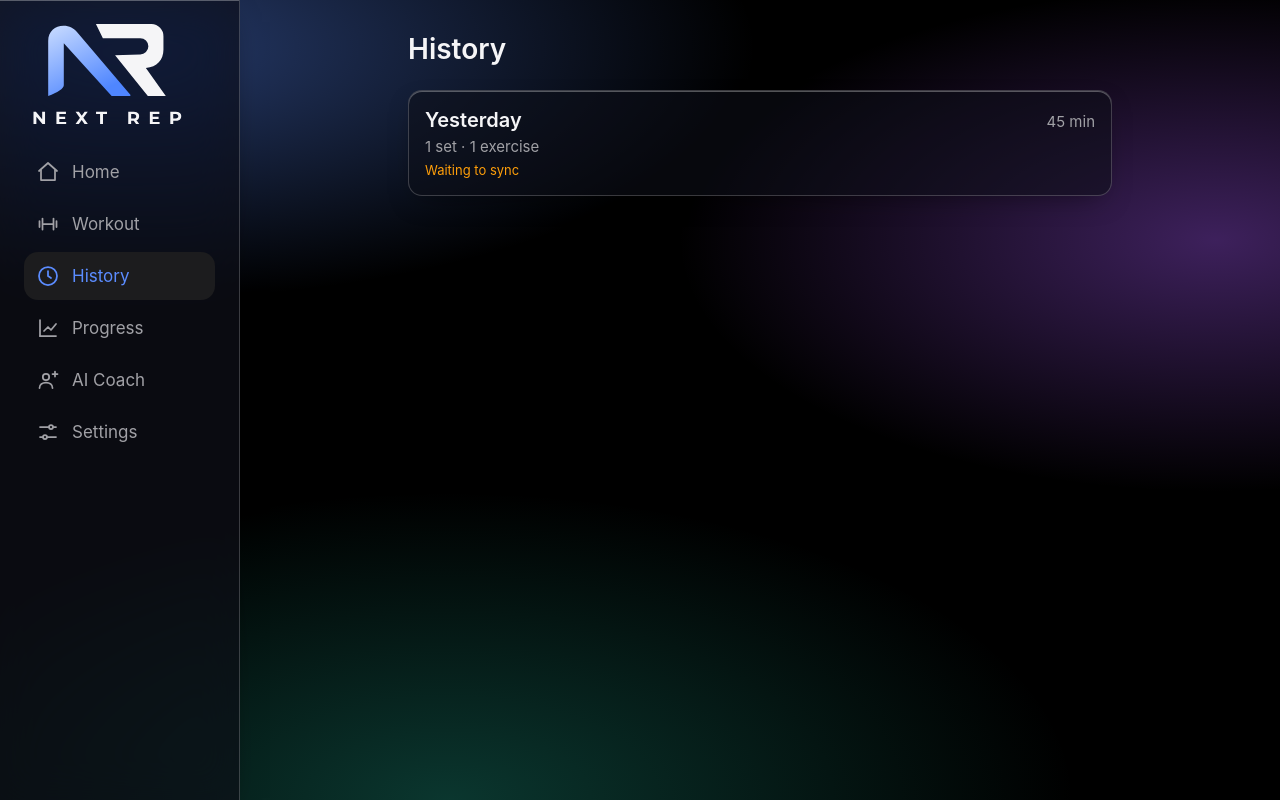
Test: a past workout › never shows a known exercise as a custom one while the names load
Click the link "Yesterday 45 min 1 set · 1 exercise Waiting to sync".
click(473, 120)  # box [408,90,1112,196]
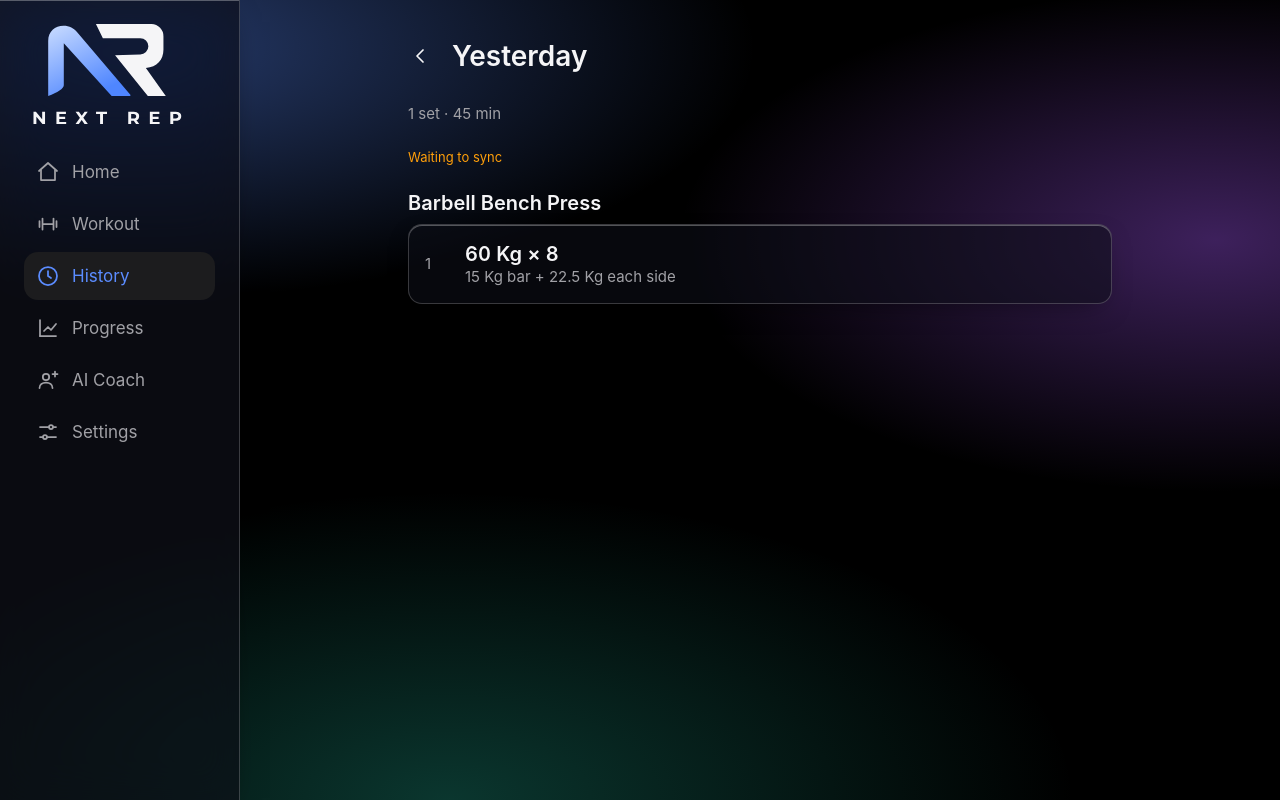
Expected: the element "Barbell Bench Press" is shown, [408,190,1112,304]
